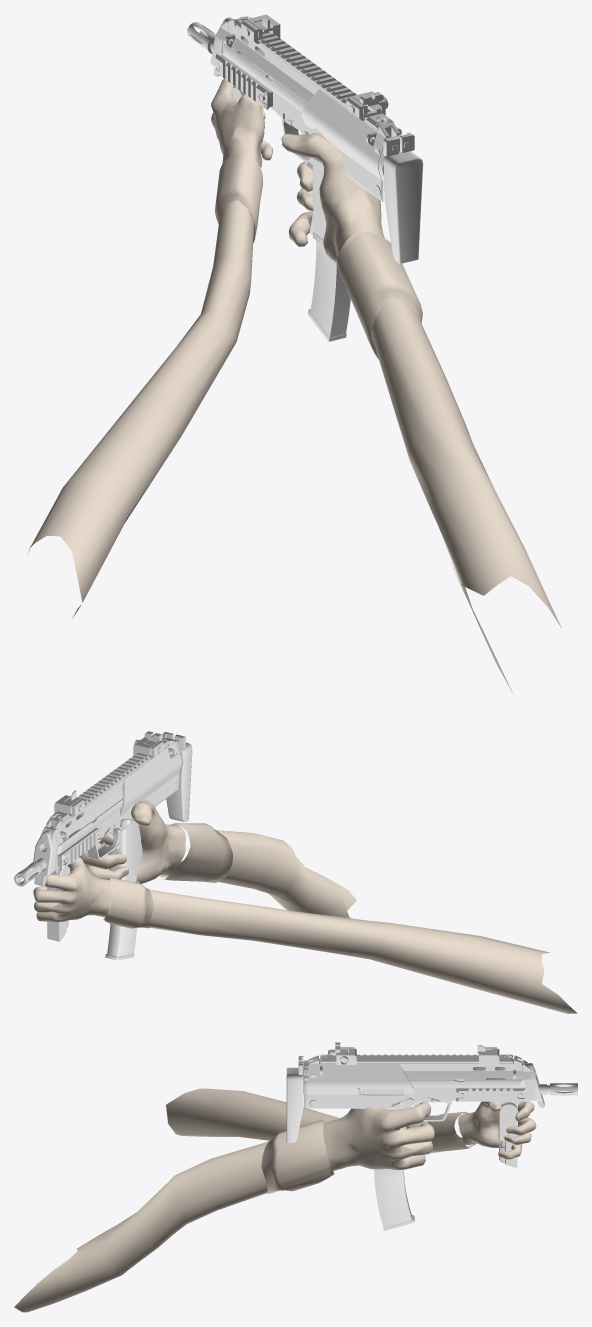
Rendered from mp7_posed.glb.
3 views of the same model, one above another, from view 1: azimuth 30°, elevation 25°; view 2: azimuth 150°, elevation 25°; view 3: azimuth 270°, elevation 25° (orthographic). The views are drawn at different scales.
Visible parts, largest first — view 1: char, body; view 2: char, body; view 3: char, body.
Boxes of the visible parts, x1=… form: char: x1=28, y1=79, x2=561, y2=693; body: x1=187, y1=14, x2=423, y2=341; char: x1=33, y1=800, x2=577, y2=1013; body: x1=14, y1=731, x2=192, y2=960; char: x1=14, y1=1088, x2=536, y2=1312; body: x1=286, y1=1042, x2=577, y2=1230.
Bounding box in the file's own units: 0.7646 × 0.6084 × 1.08.
